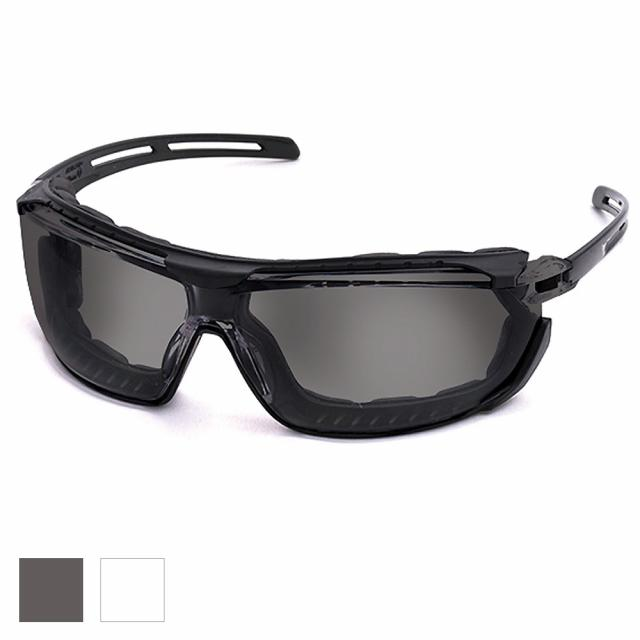Mask: (3, 78, 640, 510)
Protective Glasses: (1, 80, 640, 507)
